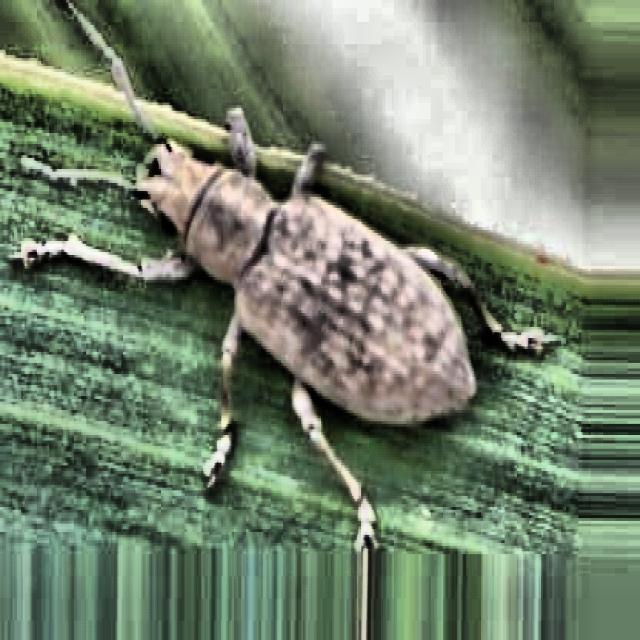Stink bug: (38, 49, 590, 556)
